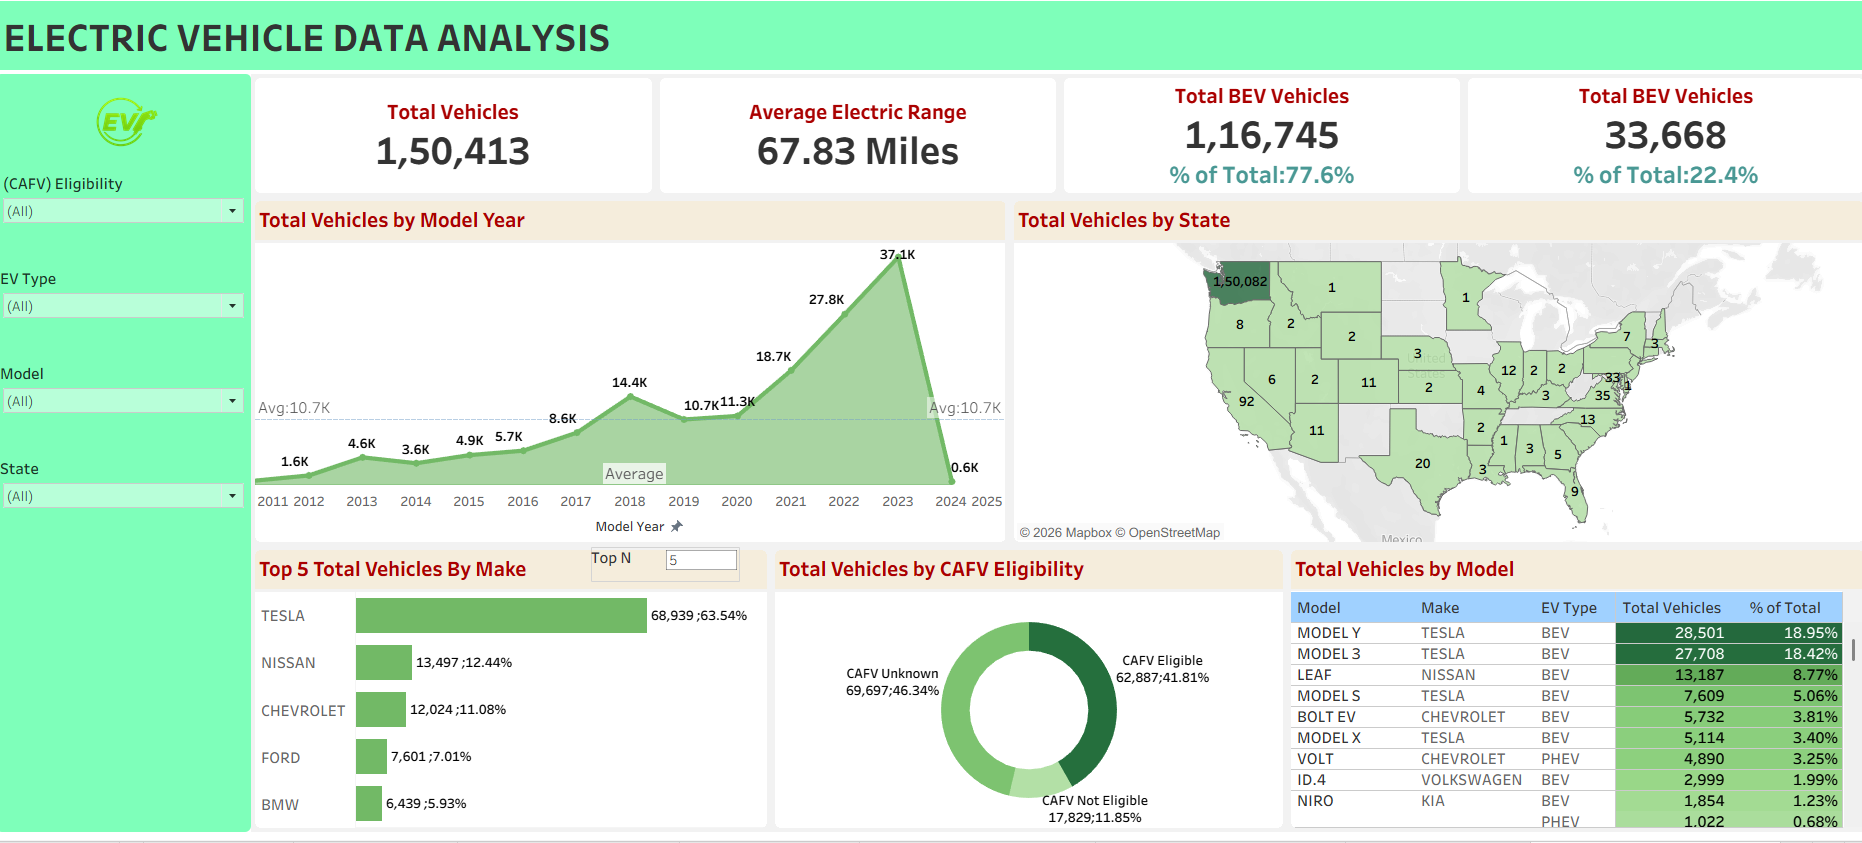

This screenshot's page, from the dashboard's own definition file:
{"tool":"tableau","page":{"name":"ELECTRIC VEHICLE DASHBOARD","canvas":[1000,1000],"units":"permille","ordinal":0},"visuals":[{"type":"title","box":[4.2,9.4,991.5,90.5]},{"type":"image","param":"Image/ChatGPT Image Mar 23, 2026, 01_27_32 PM.png","box":[4.2,99.9,135.1,111.6]},{"type":"worksheet","title":"Total Vehicles","mark":"Automatic","box":[139.3,99.9,214.5,144.5]},{"type":"worksheet","title":"Average Electric Range","mark":"Automatic","box":[353.8,99.9,214,144.5]},{"type":"worksheet","title":"Total BEV Vehicles","mark":"Automatic","box":[567.8,99.9,214,144.5]},{"type":"worksheet","title":"Total PHEV Vehicles ","mark":"Automatic","box":[781.8,99.9,214,144.5]},{"type":"filter","title":"Total Vehicles by Model Year","param":"[federated.00ma2fv1chrvdt12y84r20xjzbdh].[none:Clean Alternative Fuel Vehicle (C","box":[4.2,211.5,135.1,111.6]},{"type":"worksheet","title":"Total Vehicles by Model Year","mark":"Area","rows":["Calculation_0085813428899840","Calculation_0085813428899840"],"cols":["Model Year"],"box":[139.5,244.4,401.6,410.1]},{"type":"worksheet","title":"Total Vehicles by State","mark":"Multipolygon","box":[541.2,244.4,454.6,410.1]},{"type":"filter","title":"Total Vehicles by Model Year","param":"[federated.00ma2fv1chrvdt12y84r20xjzbdh].[none:Electric Vehicle Type:nk]","box":[4.2,323.2,135.1,111.6]},{"type":"filter","title":"Total Vehicles by Model Year","param":"[federated.00ma2fv1chrvdt12y84r20xjzbdh].[none:Model:nk]","box":[4.2,434.8,135.1,111.6]},{"type":"filter","title":"Total Vehicles by Model Year","param":"[federated.00ma2fv1chrvdt12y84r20xjzbdh].[none:State:nk]","box":[4.2,546.4,135.1,111.6]},{"type":"worksheet","title":"Top 10 Total Vehicles By Make","mark":"Automatic","rows":["Make"],"cols":["Calculation_0085813428899840"],"box":[139.5,654.5,275.4,336.1]},{"type":"worksheet","title":"Total Vehicles by CAFV Eligibility","mark":"Pie","rows":["Calculation_0113576324804609","Calculation_0113576324804609"],"box":[415,654.5,273.1,336.1]},{"type":"worksheet","title":"Total Vehicles by Model","mark":"Square","rows":["Model","Make","Electric Vehicle Type"],"box":[688,654.5,307.7,336.1]},{"type":"parameter","param":"[Parameters].[Parameter 1]","box":[319.2,655.7,79.1,41.1]},{"type":"blank","box":[4.2,658.1,135.1,111.6]},{"type":"blank","box":[4.2,769.7,135.1,110.5]},{"type":"blank","box":[4.2,880.1,135.1,110.5]}]}

Visuals, with their boxes on the dashboard's canvas, which has no fixed pixel size, in thousandths of its width and height (x1, y1, x2, y2). These are canvas units, not pixel positions in the 1862x843 screenshot, which may show the page scaled, cropped or inside an application window:
title: select_region(4, 9, 996, 100)
image: select_region(4, 100, 139, 212)
"Total Vehicles" worksheet: select_region(139, 100, 354, 244)
"Average Electric Range" worksheet: select_region(354, 100, 568, 244)
"Total BEV Vehicles" worksheet: select_region(568, 100, 782, 244)
"Total PHEV Vehicles " worksheet: select_region(782, 100, 996, 244)
"Total Vehicles by Model Year" filter: select_region(4, 212, 139, 323)
"Total Vehicles by Model Year" worksheet (Area marks): select_region(140, 244, 541, 654)
"Total Vehicles by State" worksheet (Multipolygon marks): select_region(541, 244, 996, 654)
"Total Vehicles by Model Year" filter: select_region(4, 323, 139, 435)
"Total Vehicles by Model Year" filter: select_region(4, 435, 139, 546)
"Total Vehicles by Model Year" filter: select_region(4, 546, 139, 658)
"Top 10 Total Vehicles By Make" worksheet: select_region(140, 654, 415, 991)
"Total Vehicles by CAFV Eligibility" worksheet (Pie marks): select_region(415, 654, 688, 991)
"Total Vehicles by Model" worksheet (Square marks): select_region(688, 654, 996, 991)
parameter: select_region(319, 656, 398, 697)
blank: select_region(4, 658, 139, 770)
blank: select_region(4, 770, 139, 880)
blank: select_region(4, 880, 139, 991)
